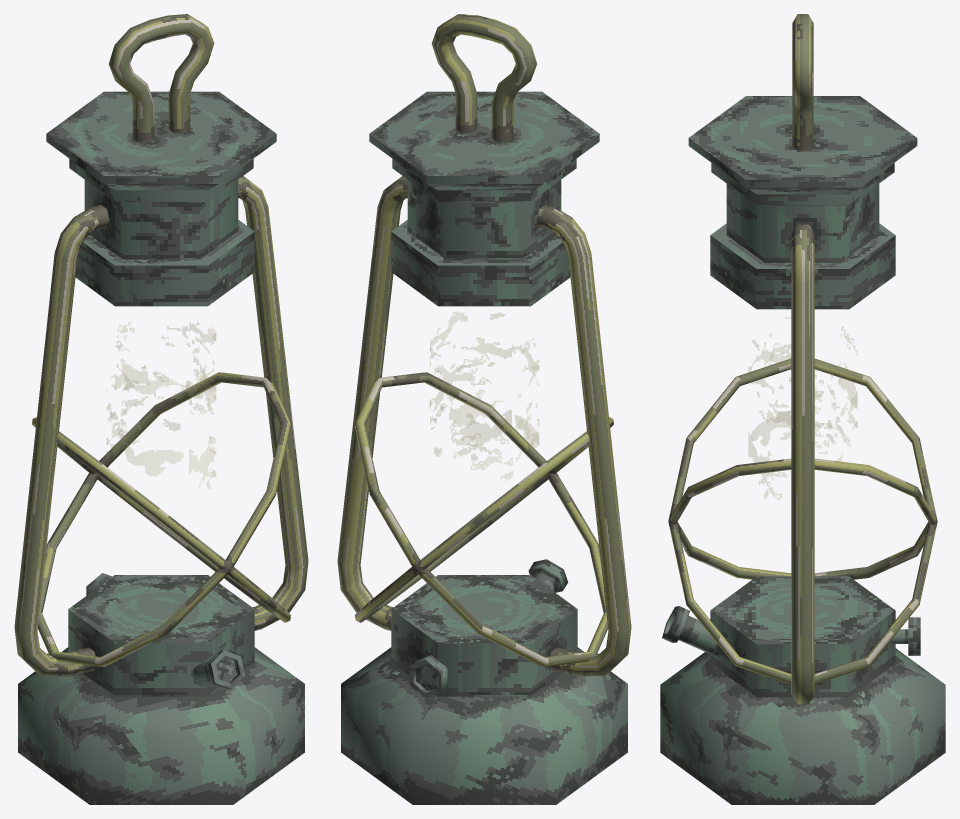
File: minelight.glb
The picture shows the model from 3 angles, left to right: view 1: azimuth 30°, elevation 25°; view 2: azimuth 150°, elevation 25°; view 3: azimuth 270°, elevation 25°; orthographic projection.
Parts seen in each view (by area): view 1: Cylinder.006, Torus.002, Cylinder.004; view 2: Cylinder.006, Torus.002, Cylinder.004; view 3: Cylinder.006, Torus.002, Cylinder.004.
Boxes of the visible parts, <box> form: Cylinder.006: <box>14,14,308,804</box>; Torus.002: <box>32,372,290,666</box>; Cylinder.004: <box>107,321,215,488</box>; Cylinder.006: <box>337,14,631,804</box>; Torus.002: <box>355,372,613,666</box>; Cylinder.004: <box>430,311,538,480</box>; Cylinder.006: <box>660,14,945,804</box>; Torus.002: <box>668,358,937,684</box>; Cylinder.004: <box>748,317,857,499</box>.
Bounding box in the file's own units: 0.3459 × 0.8405 × 0.2984.
Materials: 2 (2 with a texture image).
